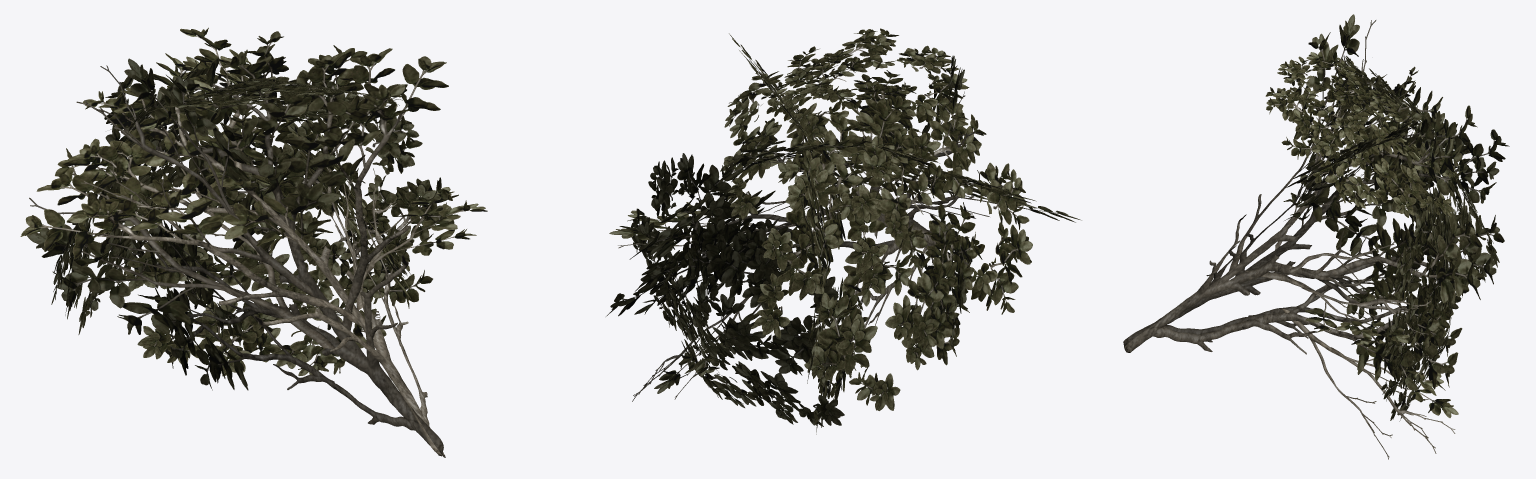
Rendered from TI_Bush_02_Branch_02.fbx.
The picture shows the model from 3 angles, left to right: view 1: azimuth 30°, elevation 25°; view 2: azimuth 150°, elevation 25°; view 3: azimuth 270°, elevation 25°; orthographic projection. The views are drawn at different scales.
Parts seen in each view (by area): view 1: TI_Bush_02_Branch_02; view 2: TI_Bush_02_Branch_02; view 3: TI_Bush_02_Branch_02.
Part boxes in pixels (x1,y1,x2,y2): TI_Bush_02_Branch_02: [20, 27, 487, 457]; TI_Bush_02_Branch_02: [606, 28, 1081, 434]; TI_Bush_02_Branch_02: [1123, 14, 1509, 459].
Size of the model in its own units: 1.3 by 1.05 by 1.1.
